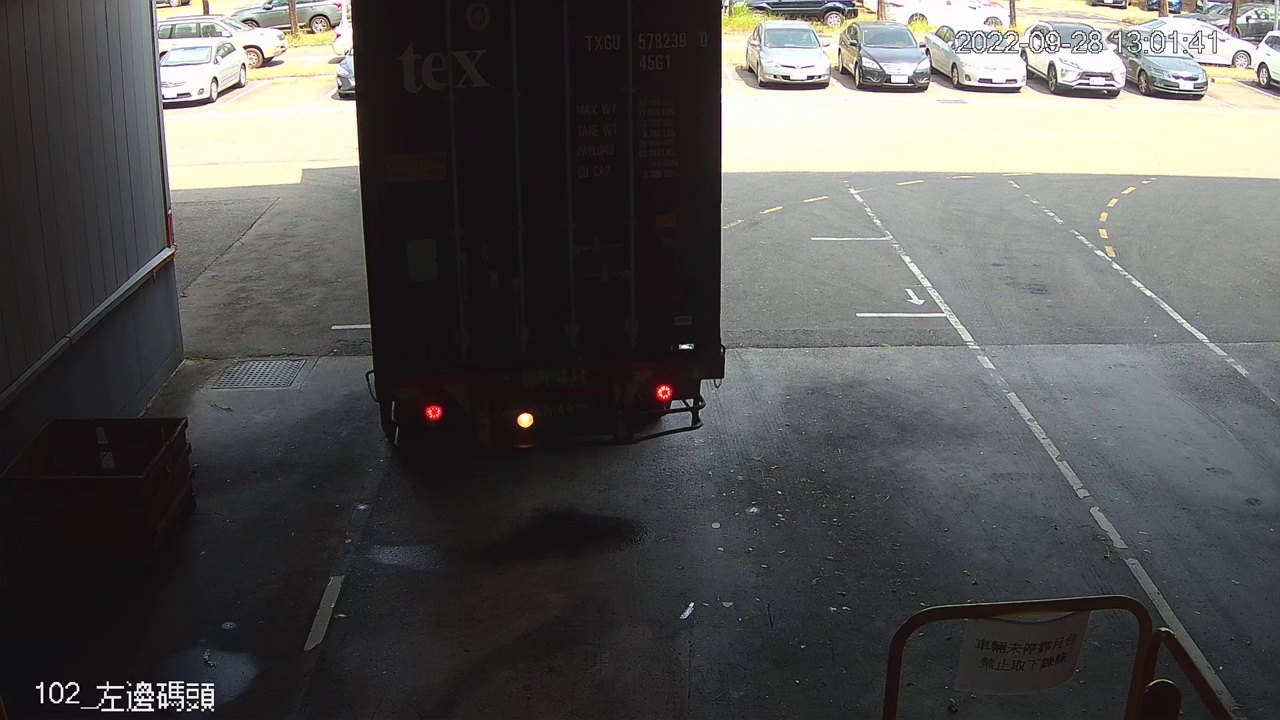container: (579, 27, 715, 77)
